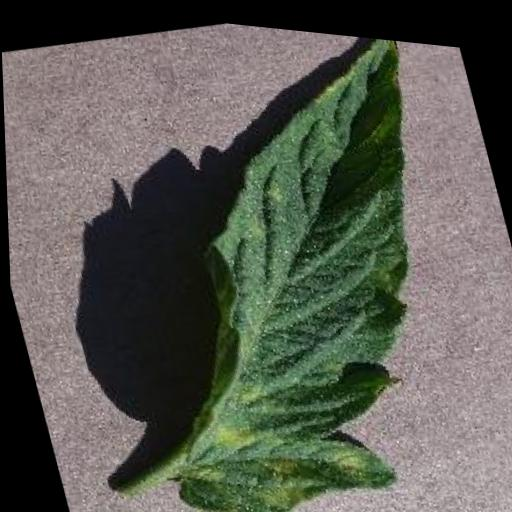Leaf Mold: (65, 5, 512, 512)
